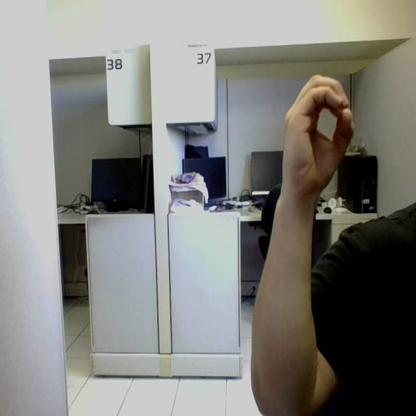O: (282, 75, 353, 190)
